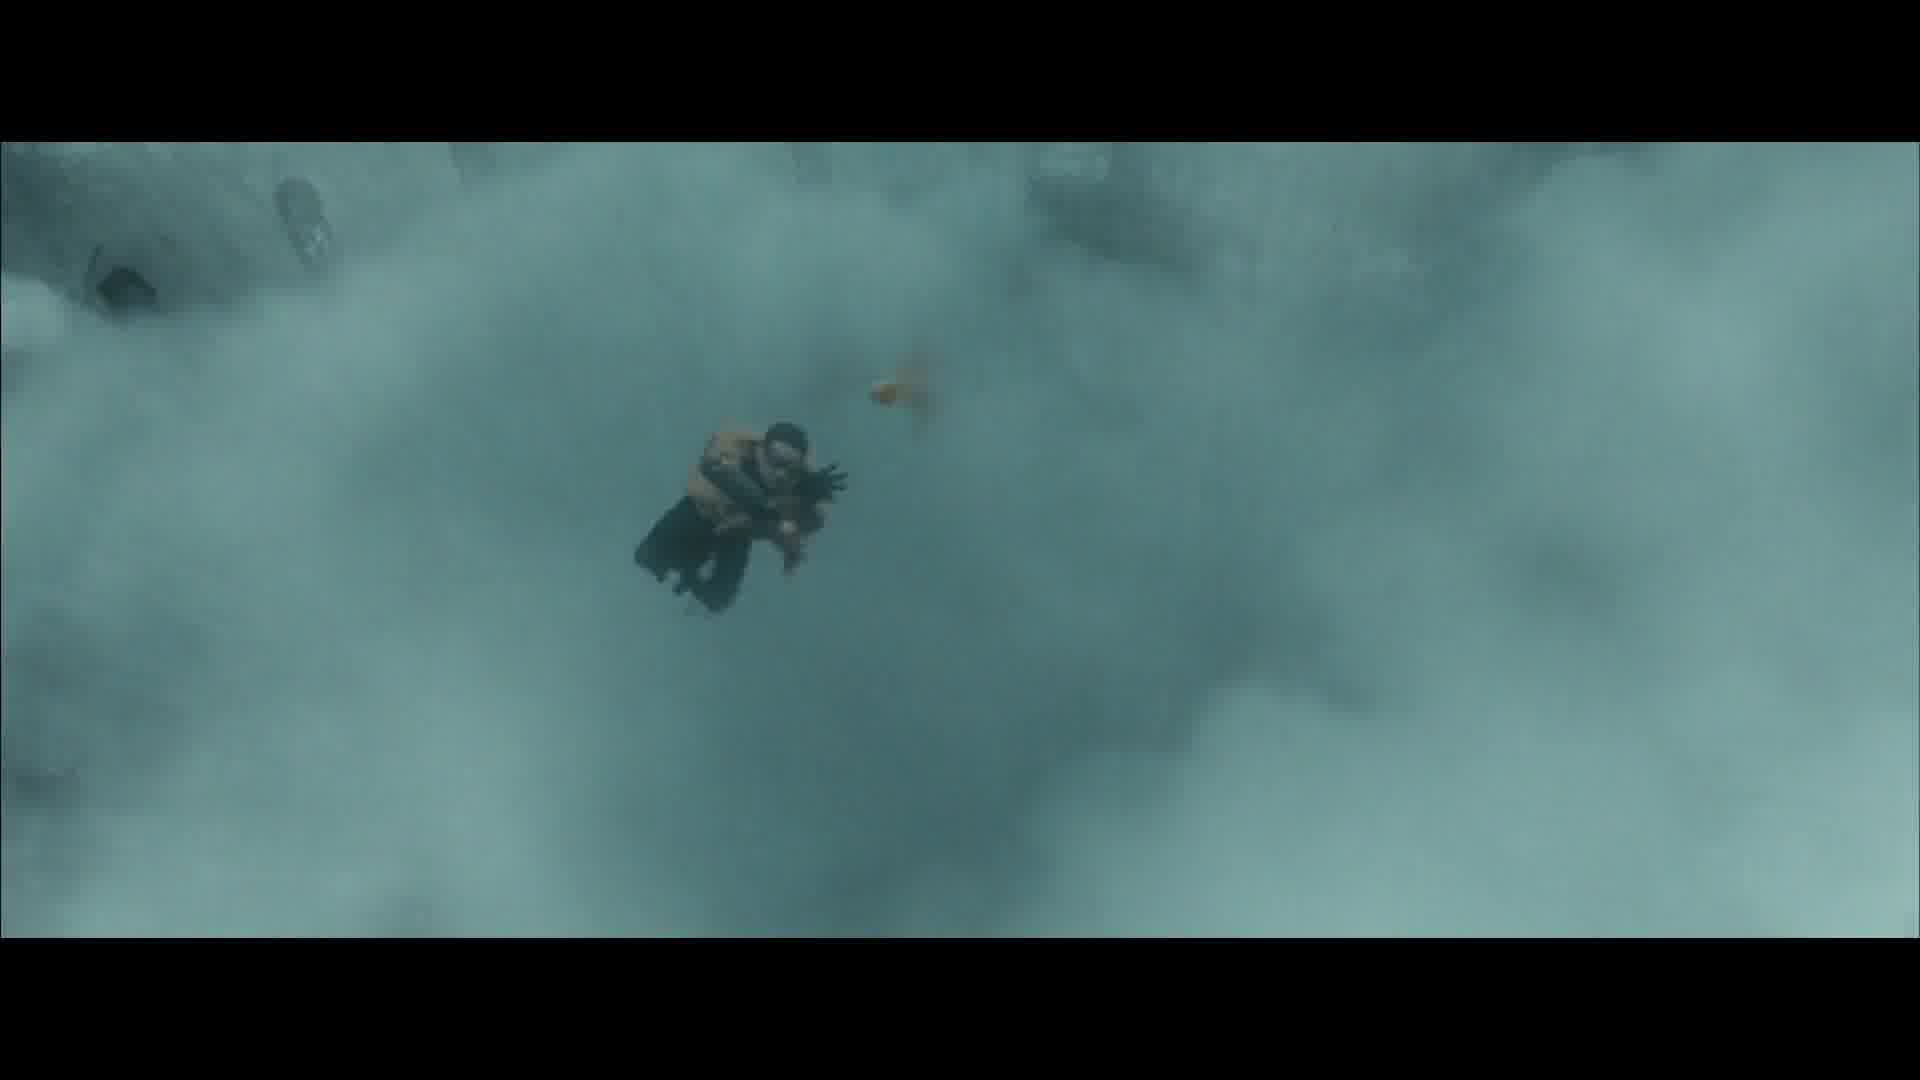snitch: (866, 377, 902, 409)
